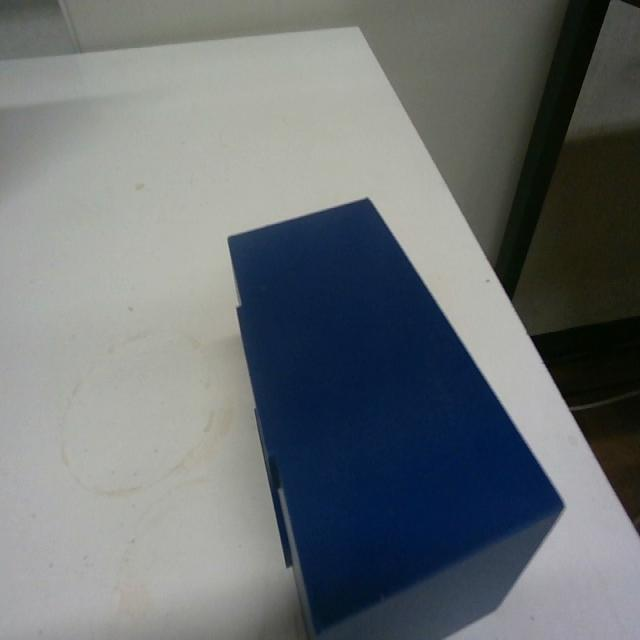Blue Cuboid: (225, 192, 566, 636)
